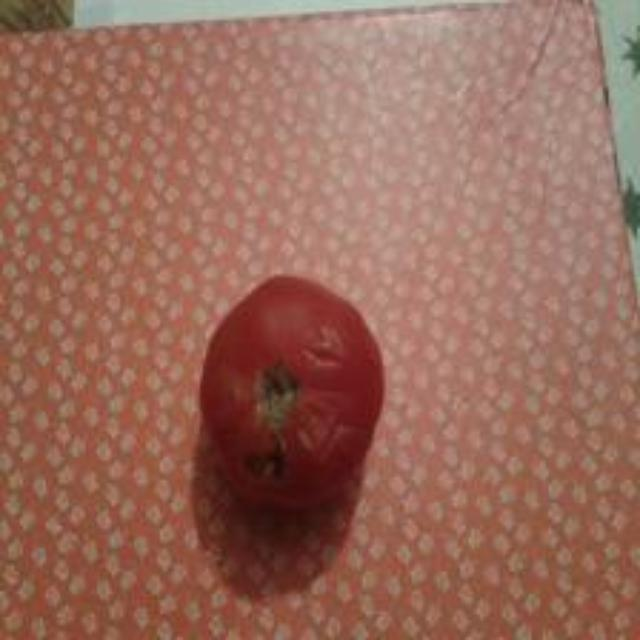defect: (195, 274, 395, 518)
